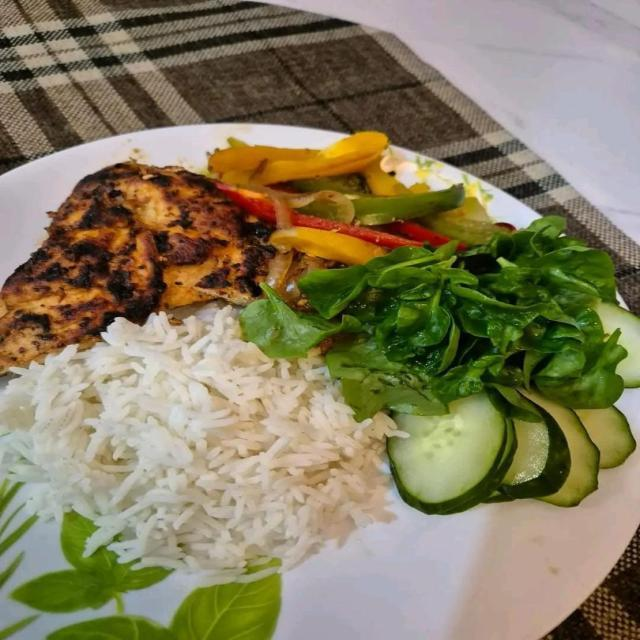Chicken: (0, 165, 274, 374)
Plate: (276, 391, 639, 639)
Rice: (0, 308, 404, 584)
Vegetables: (206, 132, 639, 519)
